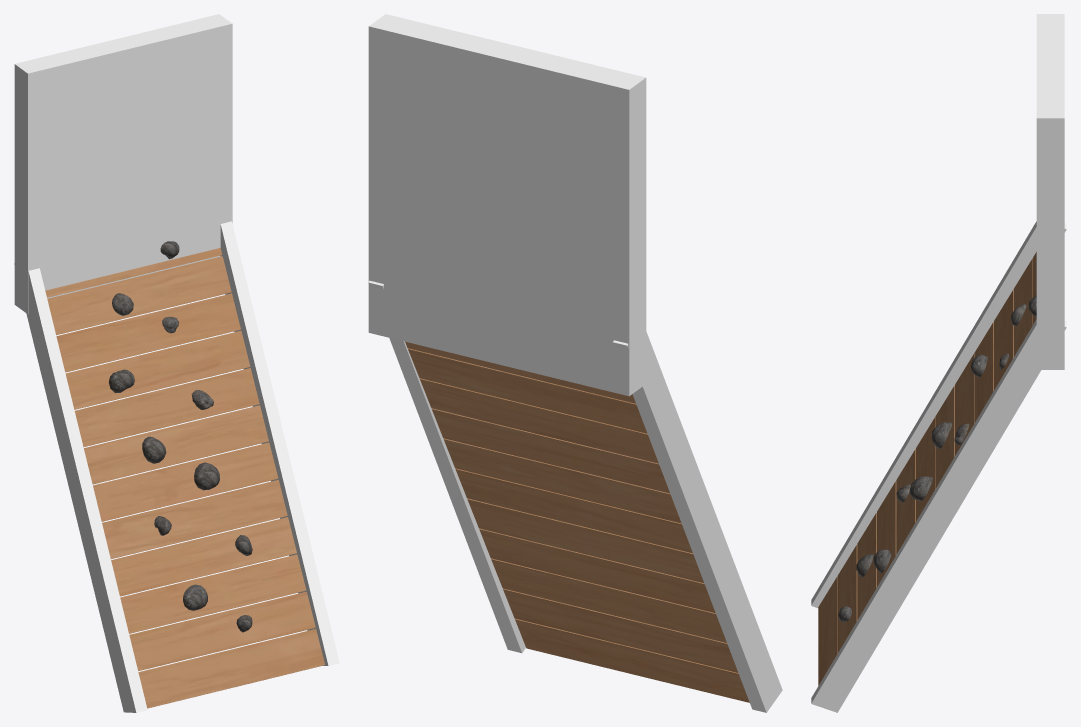
3 renders of one model, left to right at view 1: azimuth 30°, elevation 25°; view 2: azimuth 150°, elevation 25°; view 3: azimuth 270°, elevation 25°, orthographic. The views are drawn at different scales.
Parts seen in each view (by area): view 1: Cube361, joint,2,6, Cube361_1, Cube361_2; view 2: joint,2,6, Cube361, Cube361_1; view 3: Cube361_1, Cube361, joint,2,6, Cube361_2.
Part boxes in pixels (x1,y1,x2,y2): Cube361: (45,248,324,708); joint,2,6: (14,14,232,313); Cube361_1: (14,221,339,712); Cube361_2: (108,241,252,632); joint,2,6: (368,14,646,396); Cube361: (405,341,749,702); Cube361_1: (368,280,782,712); Cube361_1: (811,221,1066,712); Cube361: (818,252,1036,685); joint,2,6: (1036,14,1064,369); Cube361_2: (838,295,1036,622).
Bounding box in the file's own units: 0.8896 × 2.36 × 0.9204.
4 materials, 2 textured.
